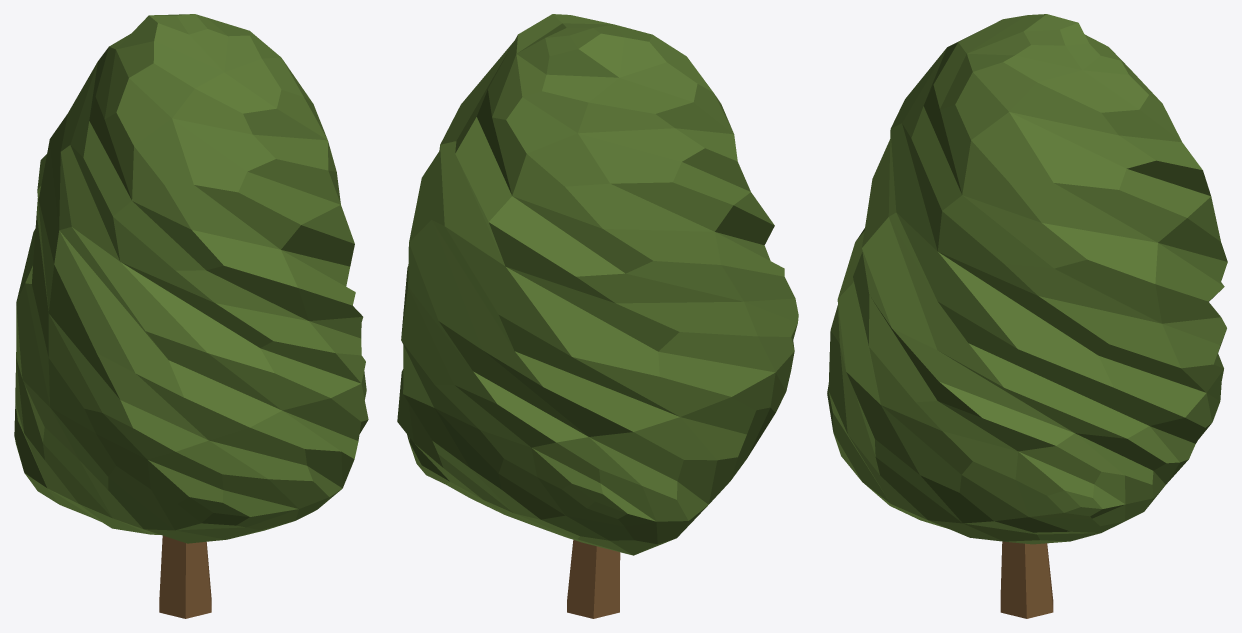
Rendered from Tree_6_4.fbx.
3 renders of one model, left to right at view 1: azimuth 30°, elevation 25°; view 2: azimuth 150°, elevation 25°; view 3: azimuth 270°, elevation 25°, orthographic.
Visible parts, largest first — view 1: Tree_6_4; view 2: Tree_6_4; view 3: Tree_6_4.
Boxes of the visible parts, <box> form: Tree_6_4: <box>14,14,368,618</box>; Tree_6_4: <box>397,14,798,618</box>; Tree_6_4: <box>827,14,1227,618</box>.
Size of the model in its own units: 97.73 by 171 by 106.
